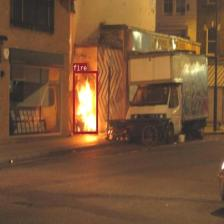fire: (72, 70, 98, 134)
